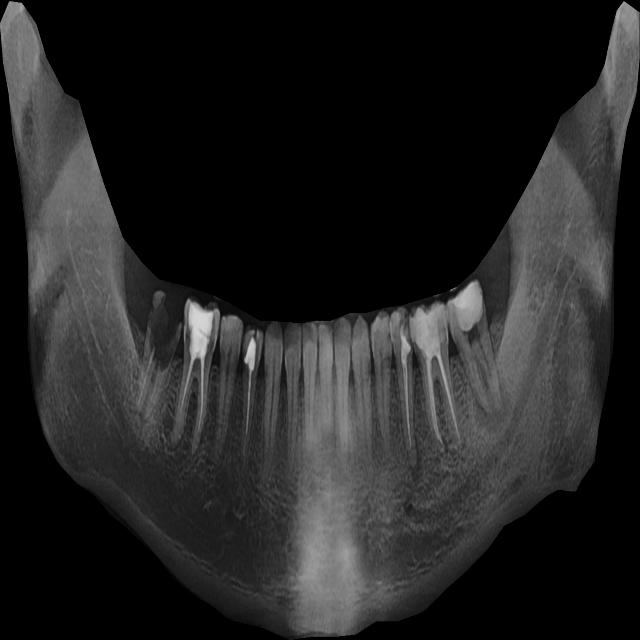mandibula: (0, 1, 640, 640)
